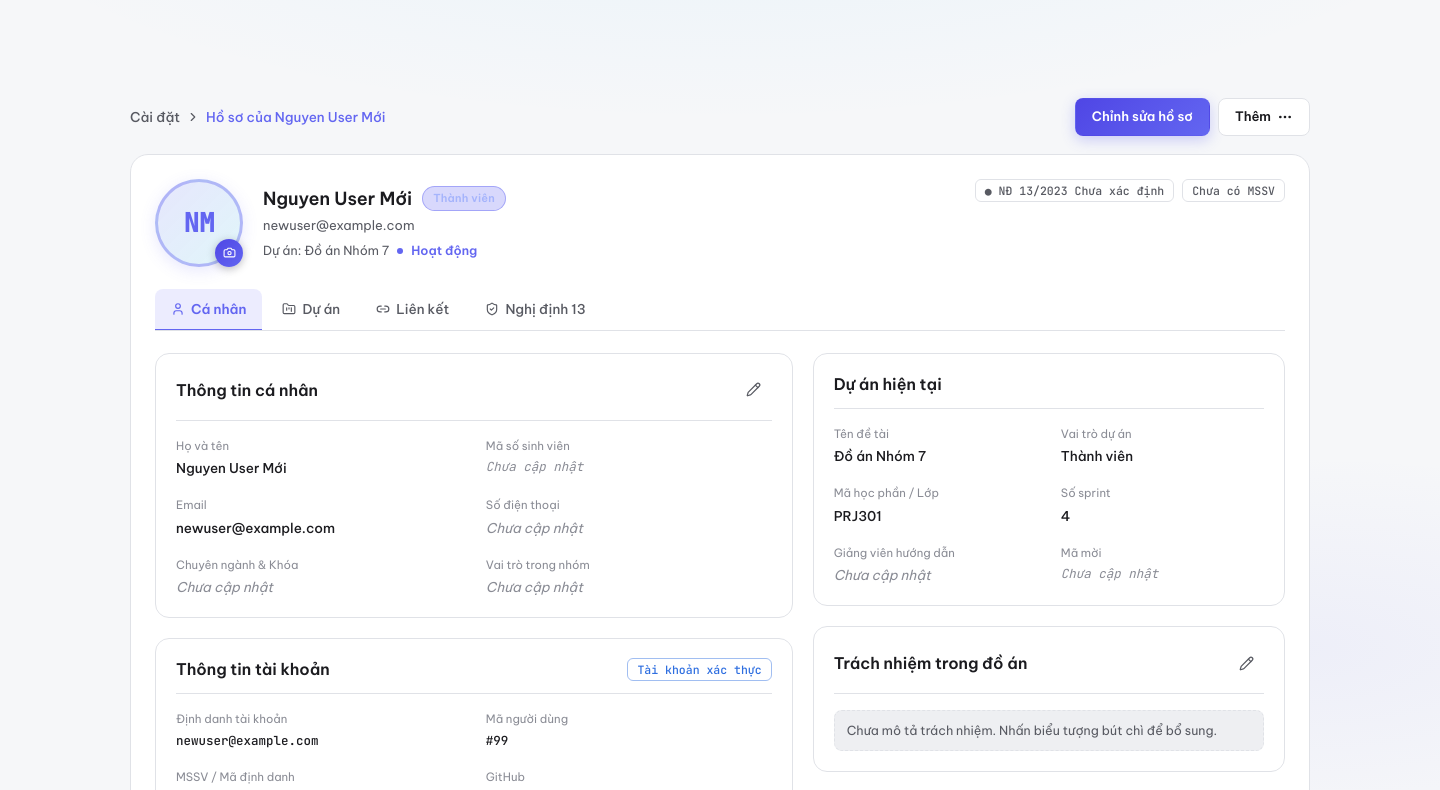
Test: ProfileSettingsPage Component Tests › hides project edit actions for non-leader MEMBER (DEF-59)
The image size is (1440, 790).
Click the button "Thêm" at (1264, 117), box [1218, 98, 1310, 136]
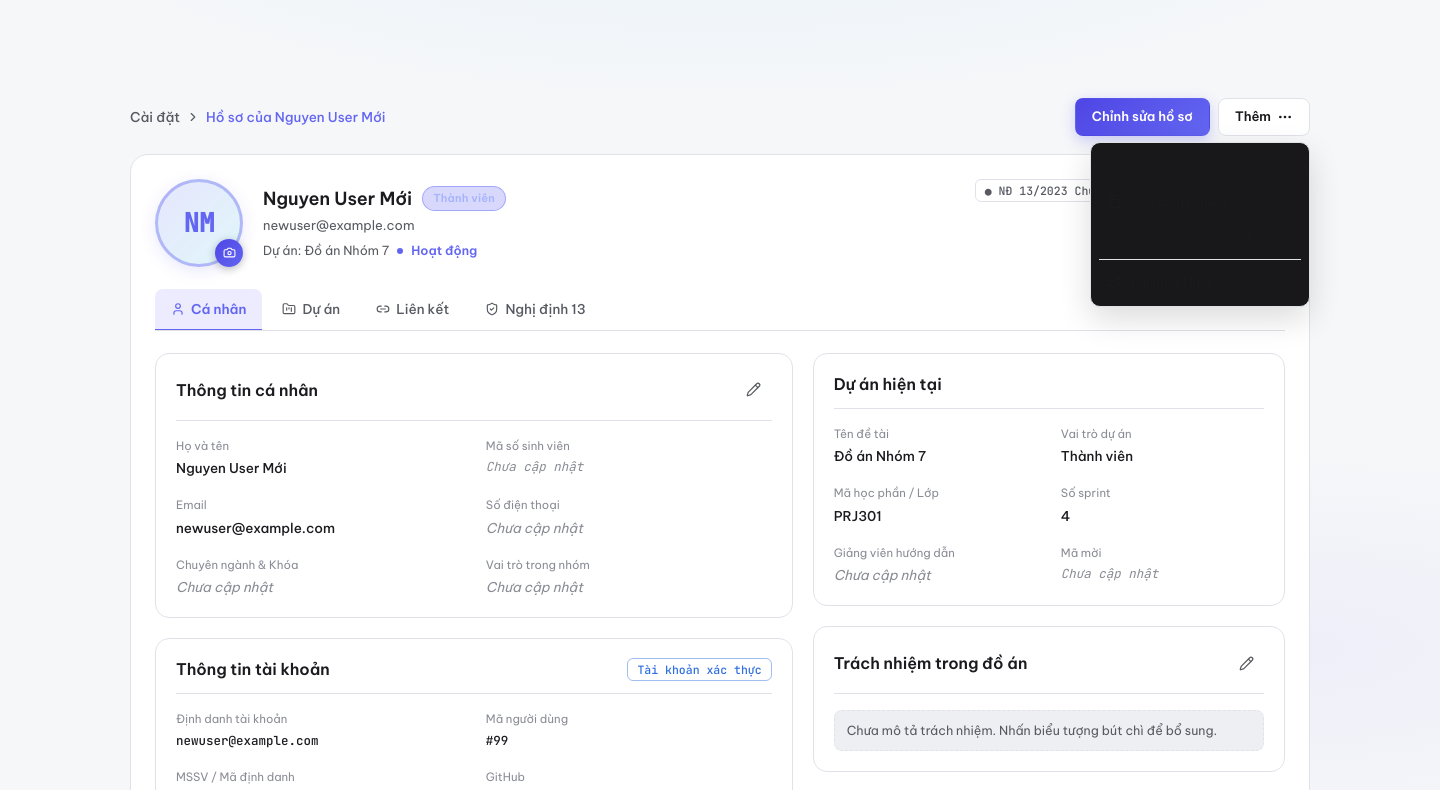
Click the tab "Dự án" at (311, 310), box [266, 288, 356, 331]
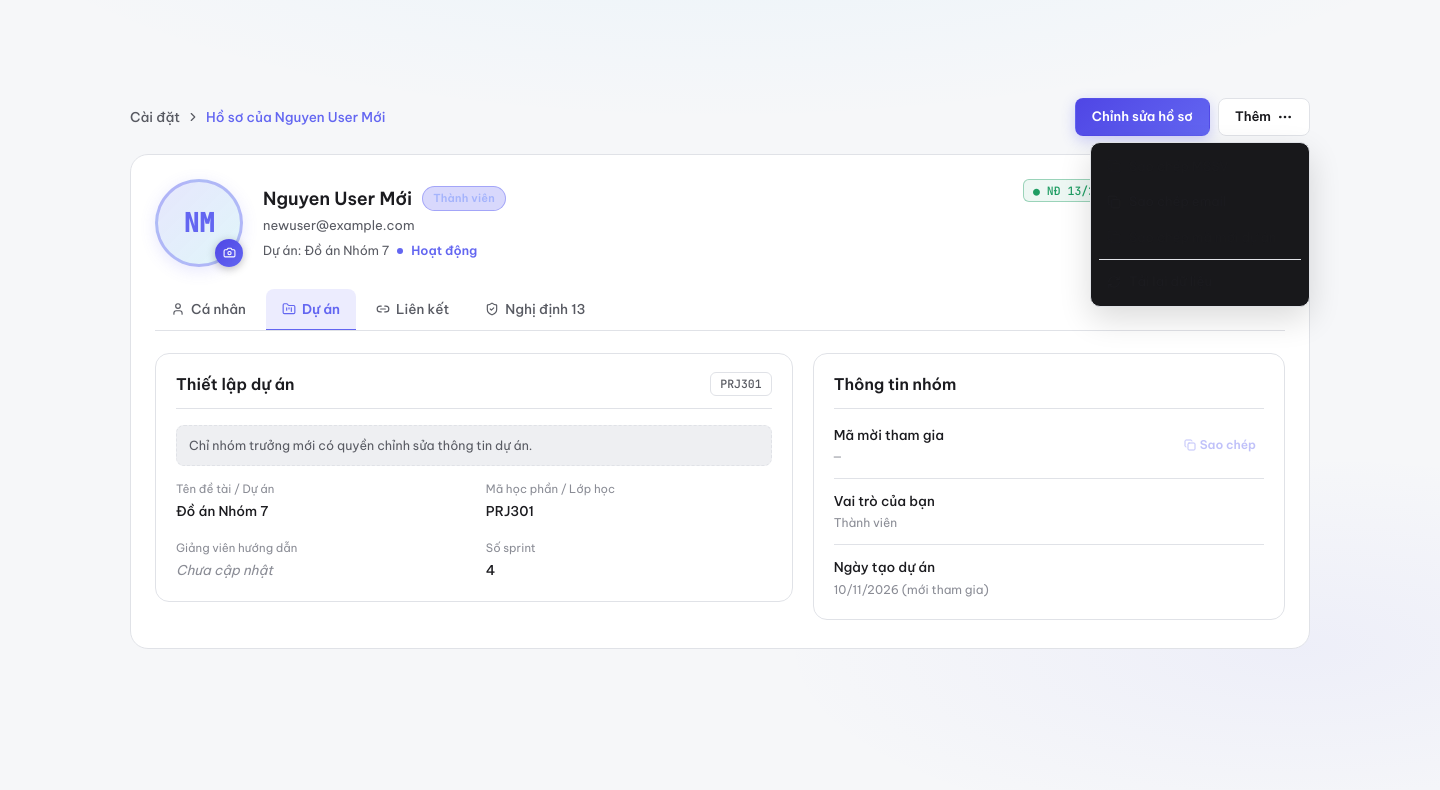
Result: the text "Chỉ nhóm trưởng mới có quyền chỉnh sửa thông tin dự án." is shown at [176, 425, 772, 466]
